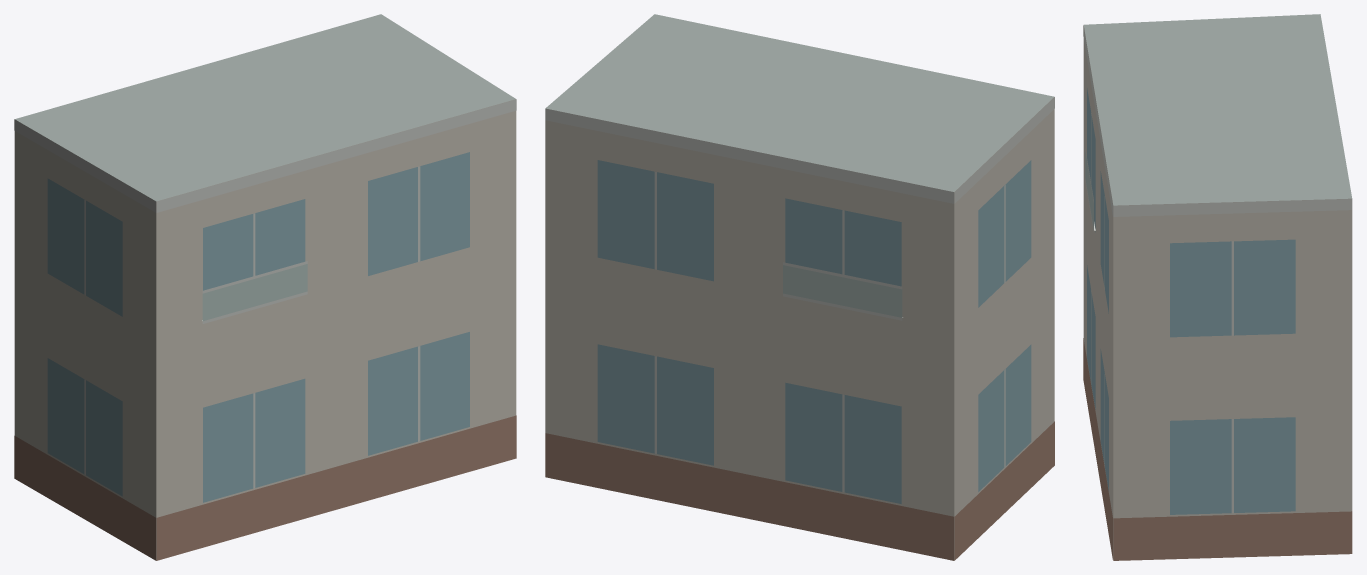
The model's file is survey-upis-32755924.glb.
3 views of the same model, side by side, from view 1: azimuth 30°, elevation 25°; view 2: azimuth 150°, elevation 25°; view 3: azimuth 270°, elevation 25° (orthographic). The views are drawn at different scales.
Visible parts, largest first — view 1: survey-upis-32755924.tmp; view 2: survey-upis-32755924.tmp; view 3: survey-upis-32755924.tmp.
Part boxes in pixels (x1,y1,x2,y2): survey-upis-32755924.tmp: (14, 14, 516, 560); survey-upis-32755924.tmp: (545, 14, 1054, 560); survey-upis-32755924.tmp: (1083, 14, 1352, 560).
Size of the model in its own units: 8.8 by 7.6 by 5.22.
